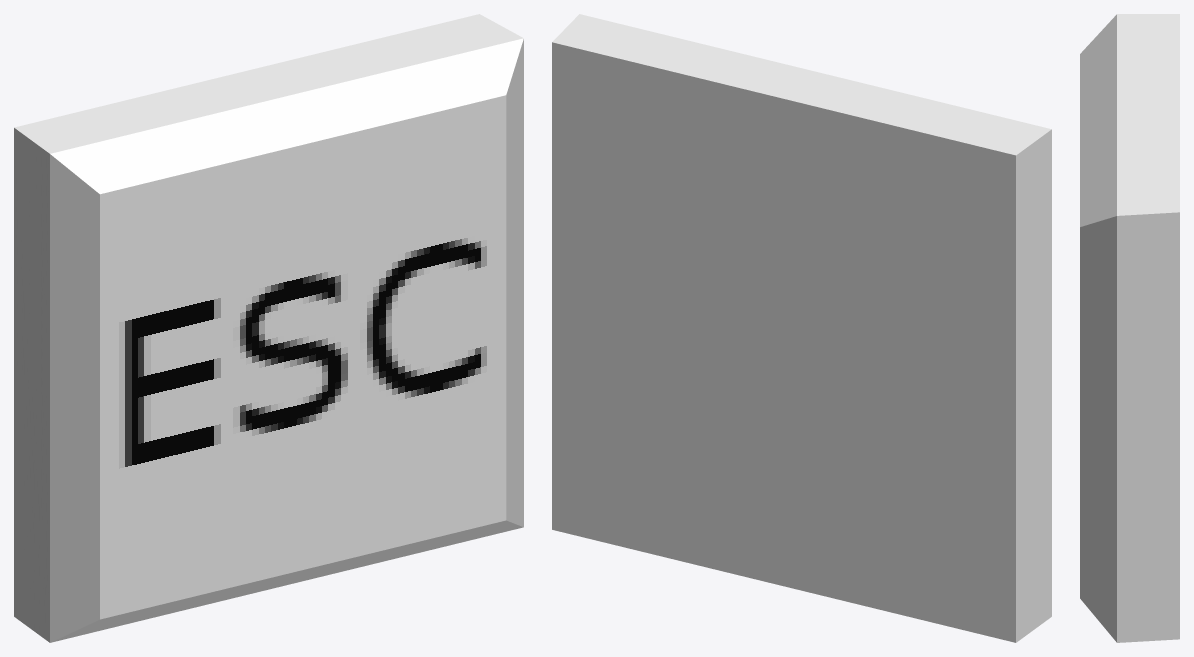
File: ESC.fbx
The picture shows the model from 3 angles, left to right: view 1: azimuth 30°, elevation 25°; view 2: azimuth 150°, elevation 25°; view 3: azimuth 270°, elevation 25°; orthographic projection. The views are drawn at different scales.
Visible parts, largest first — view 1: polySurface33; view 2: polySurface33; view 3: polySurface33.
Part boxes in pixels (x1,y1,x2,y2): polySurface33: [14, 14, 523, 642]; polySurface33: [552, 14, 1051, 642]; polySurface33: [1080, 14, 1179, 642].
Size of the model in its own units: 0.2116 by 0.2086 by 0.0442.
1 material, 1 textured.
